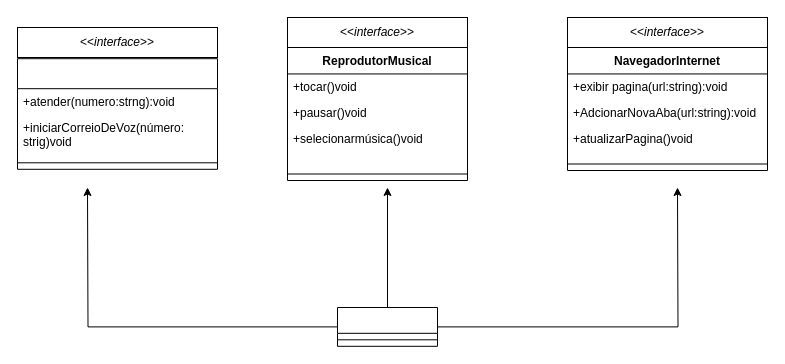
This 785x364 diagram has some shape labels left out. Each missing label, with the box of its shape:
Aparelho: (336, 306, 438, 346)
AparelhoTelefônico: (16, 58, 218, 169)
